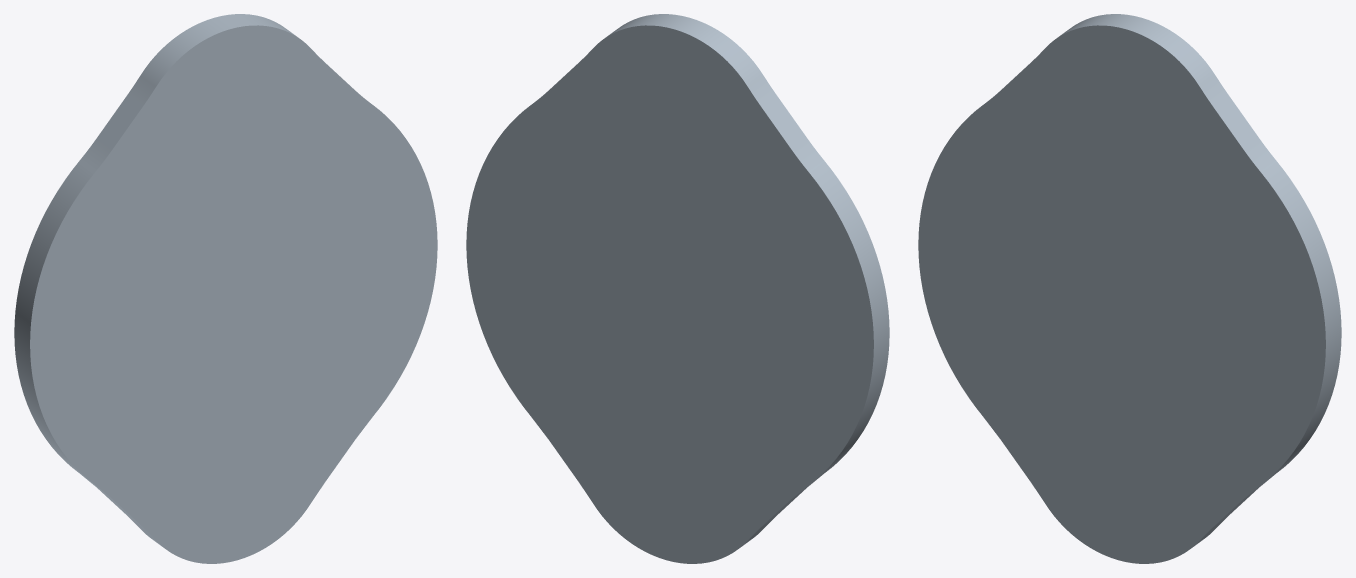
The model's file is inner_rotor_gate_actuator.obj.
The picture shows the model from 3 angles, left to right: view 1: azimuth 30°, elevation 25°; view 2: azimuth 150°, elevation 25°; view 3: azimuth 330°, elevation 25°; orthographic projection.
Parts seen in each view (by area): view 1: 1; view 2: 1; view 3: 1.
Boxes of the visible parts, <box> form: 1: <box>14,14,437,563</box>; 1: <box>466,14,889,563</box>; 1: <box>918,14,1341,563</box>.
Size of the model in its own units: 75 by 93.7 by 5.
